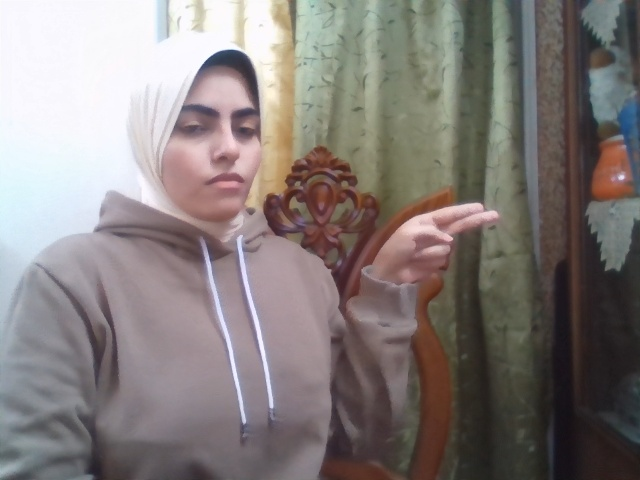H: (369, 202, 501, 284)
